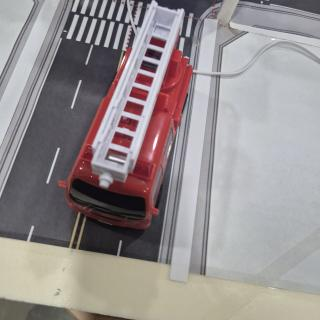Fire_truck: (59, 1, 192, 229)
